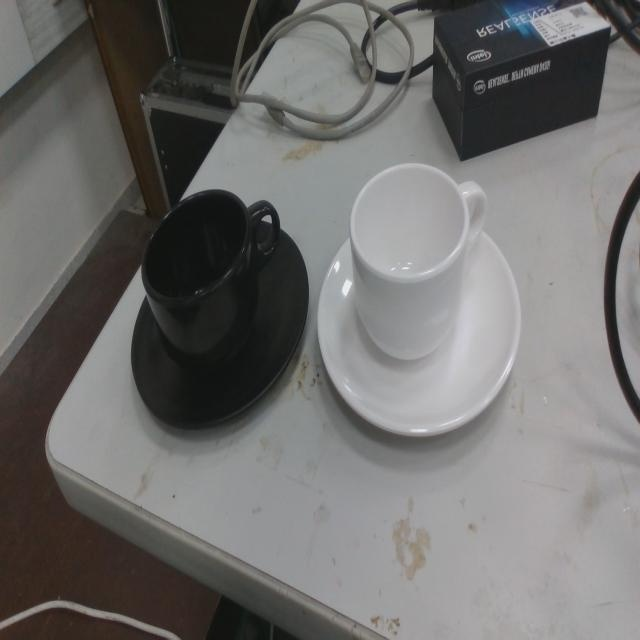black: (127, 184, 310, 439)
white: (313, 157, 523, 445)
